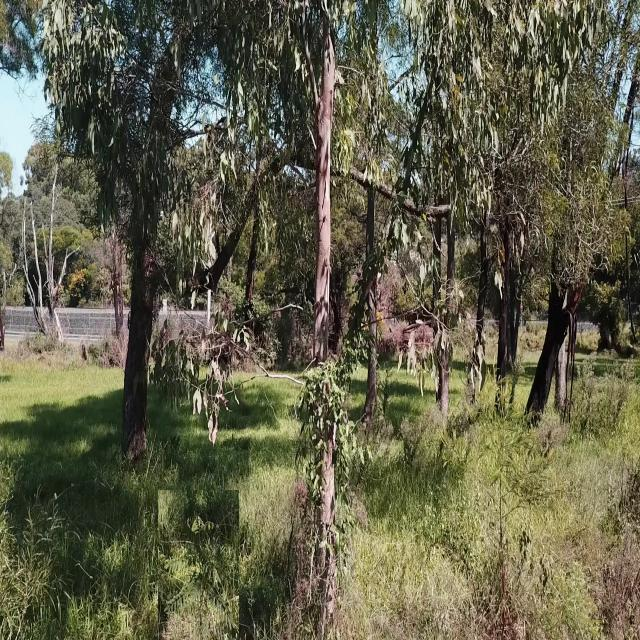Mysore-Thorn-Weed: (158, 490, 239, 640)
